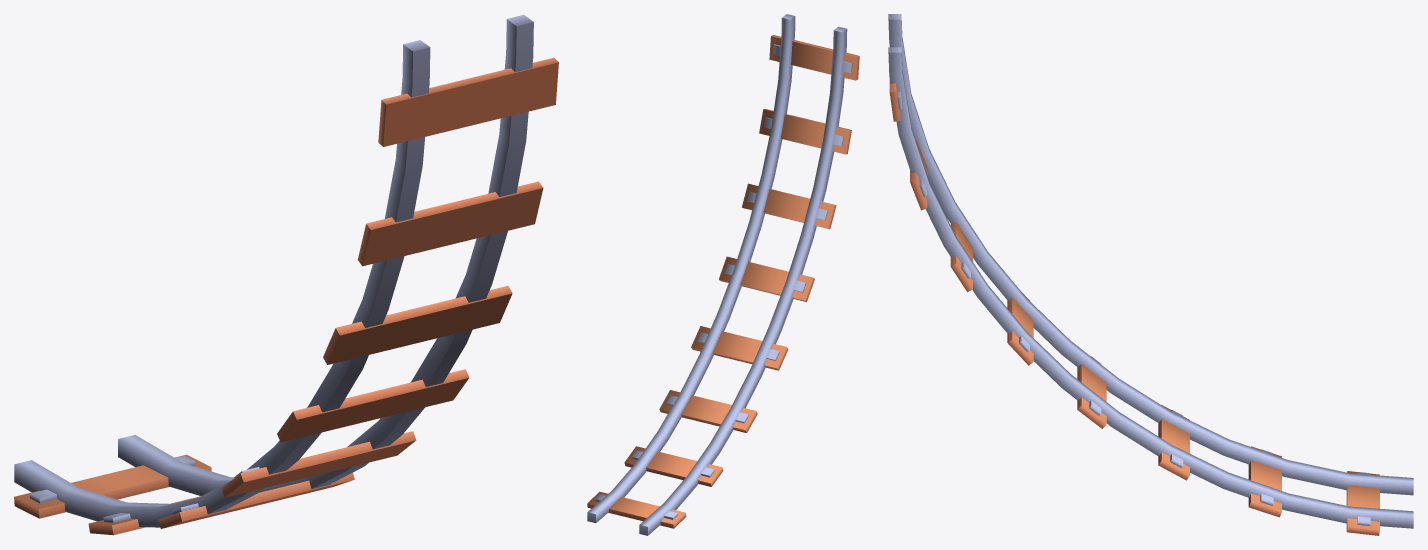
The model's file is railroad-straight-bend-large.glb.
3 views of the same model, side by side, from view 1: azimuth 30°, elevation 25°; view 2: azimuth 150°, elevation 25°; view 3: azimuth 270°, elevation 25° (orthographic). The views are drawn at different scales.
Visible parts, largest first — view 1: railroad-straight-bend-large; view 2: railroad-straight-bend-large; view 3: railroad-straight-bend-large.
Part boxes in pixels (x1=…): railroad-straight-bend-large: x1=14, y1=15, x2=558, y2=535; railroad-straight-bend-large: x1=587, y1=14, x2=859, y2=535; railroad-straight-bend-large: x1=888, y1=14, x2=1413, y2=535.
Size of the model in its own units: 1 by 4 by 4.
1 material, 1 textured.
